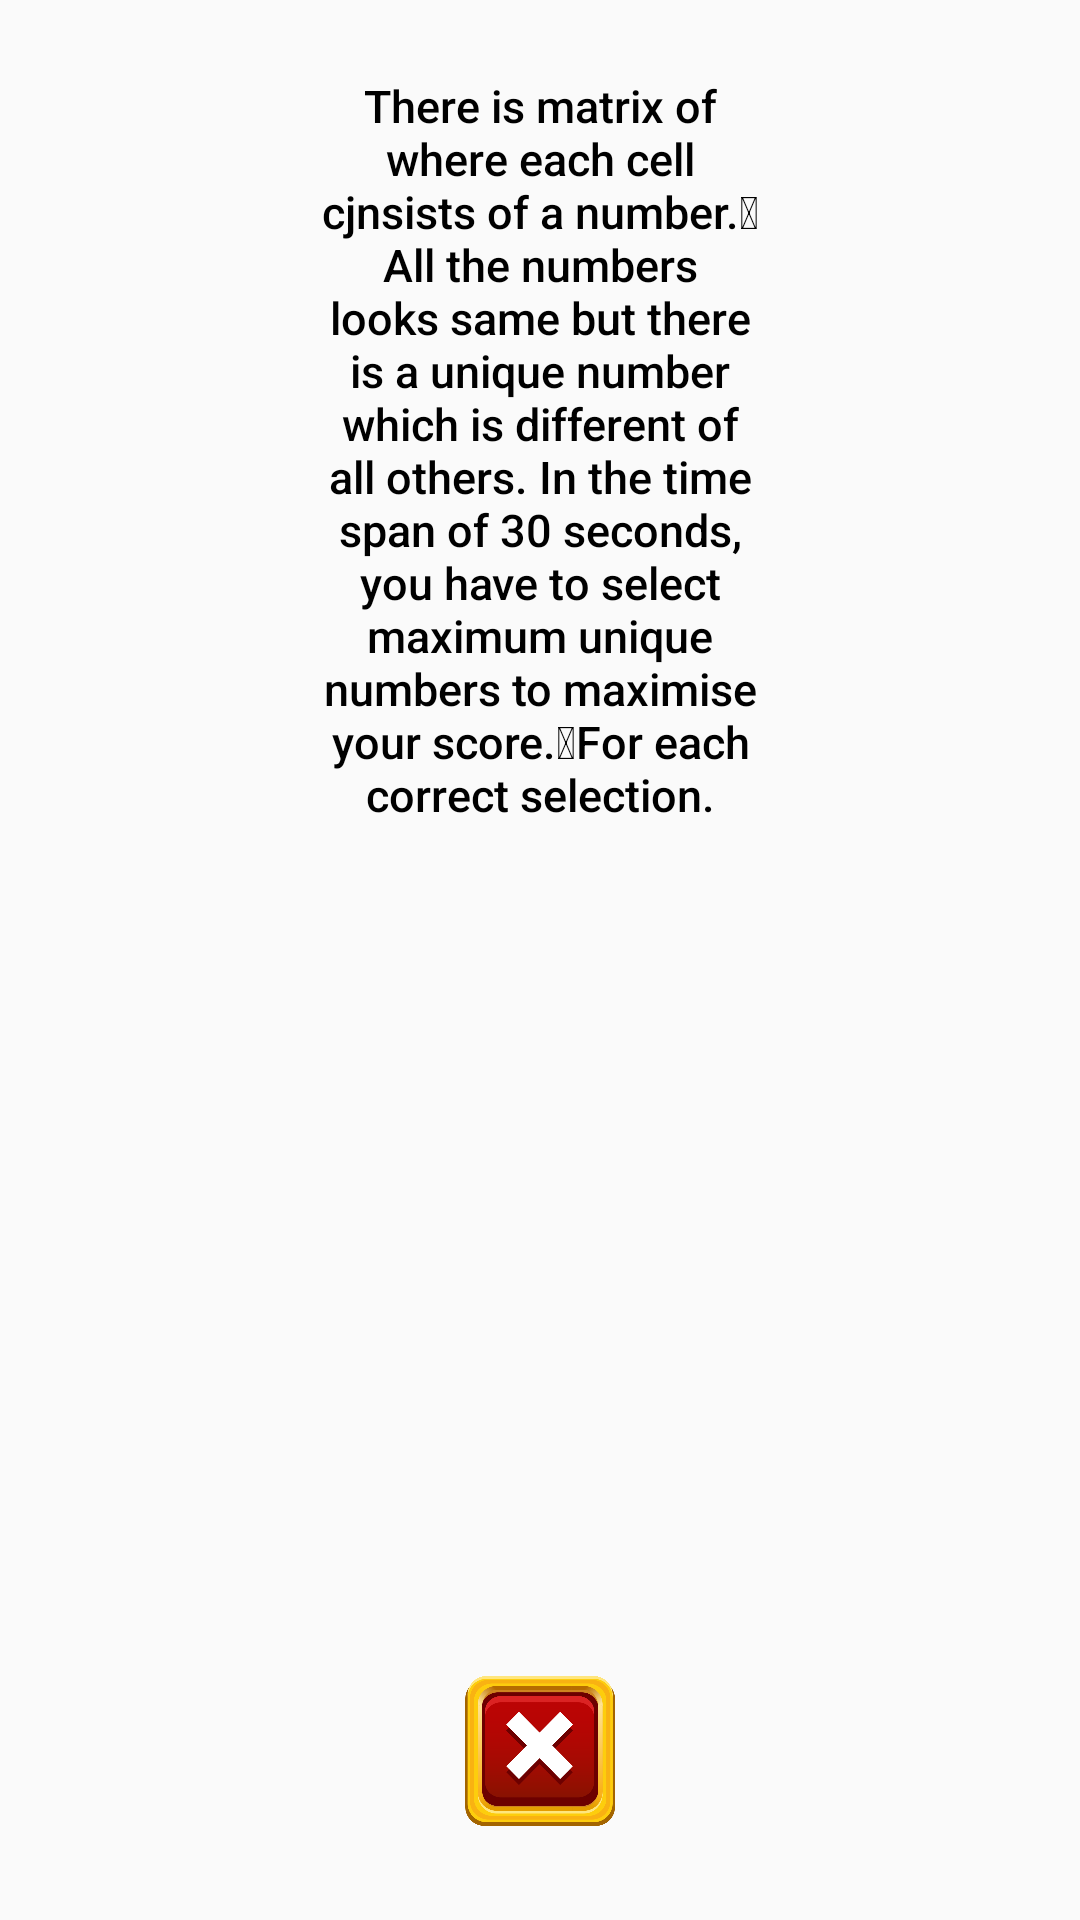

Screen size 1080 × 1920. Icon name, then its box in pixels as rect(x1, y1, x2, y2):
close: rect(465, 1676, 615, 1826)
